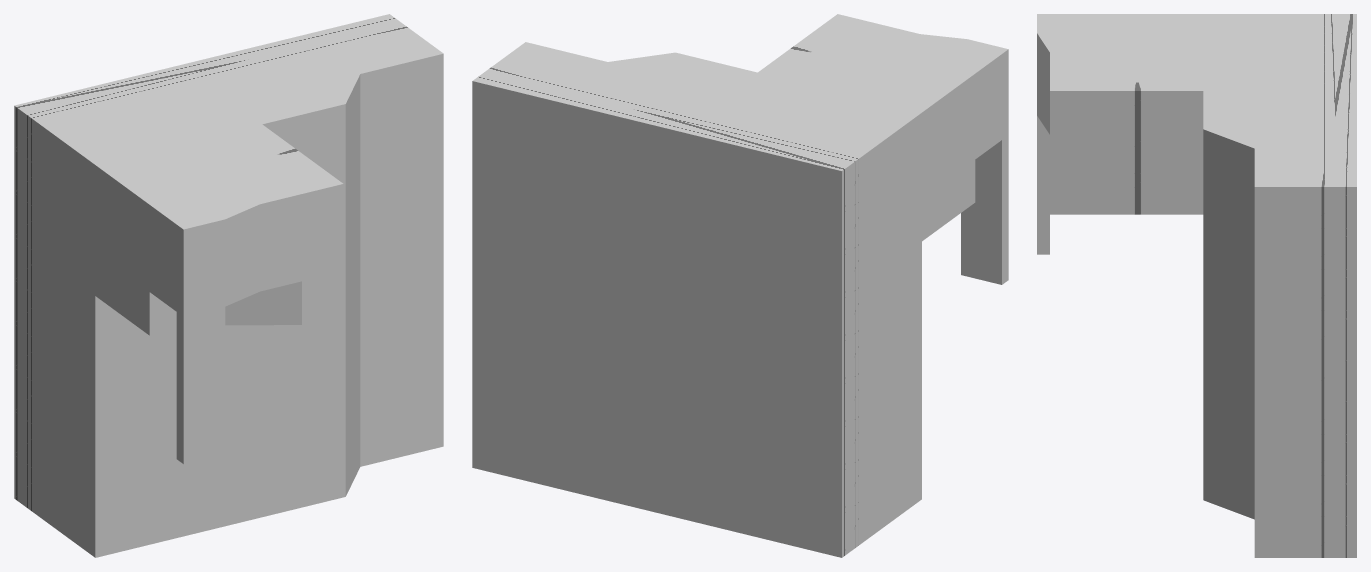
The model's file is Stage1.obj.
3 views of the same model, side by side, from view 1: azimuth 30°, elevation 25°; view 2: azimuth 150°, elevation 25°; view 3: azimuth 270°, elevation 25° (orthographic). The views are drawn at different scales.
Visible parts, largest first — view 1: Grid; view 2: Grid; view 3: Grid.
Boxes of the visible parts, bbox=[...] form: Grid: bbox=[14, 14, 443, 557]; Grid: bbox=[472, 14, 1008, 557]; Grid: bbox=[1037, 14, 1356, 557].
Size of the model in its own units: 8 by 8 by 6.25.
